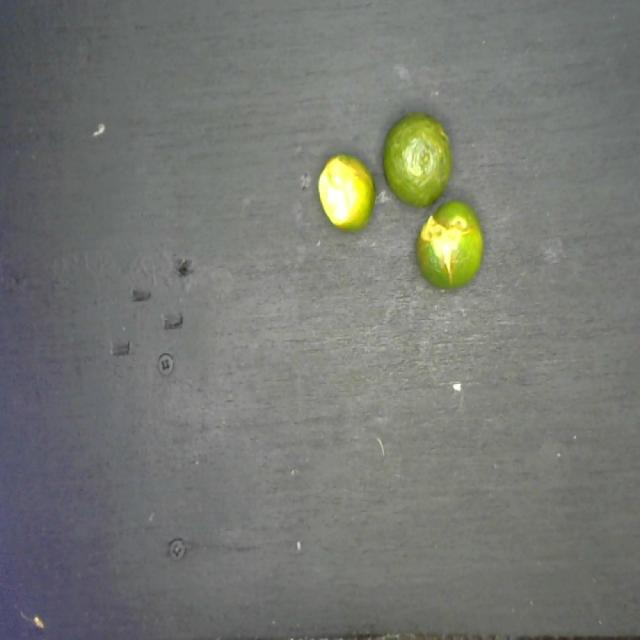biodegradable: (310, 98, 491, 303)
